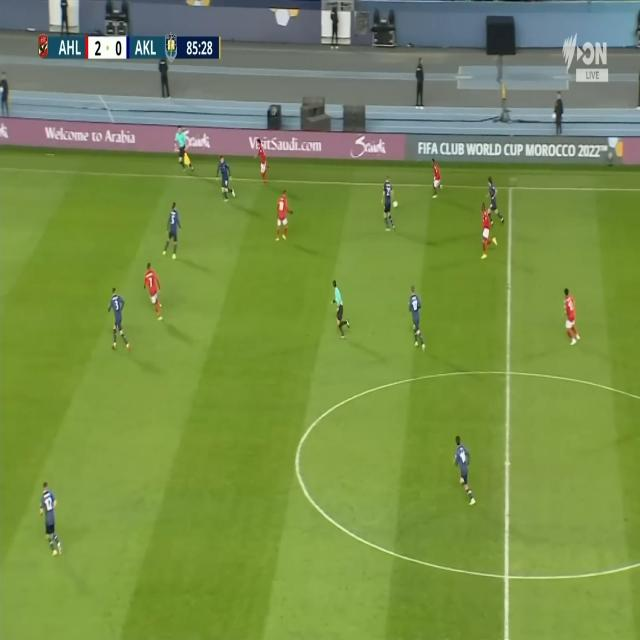Ball: (391, 198, 399, 214)
Player: (38, 482, 63, 558), (454, 432, 478, 508), (406, 277, 428, 354), (108, 285, 132, 354), (561, 283, 583, 344), (144, 260, 164, 322), (478, 200, 498, 262), (162, 201, 182, 262), (216, 156, 237, 205), (275, 189, 293, 244), (379, 175, 396, 231), (484, 178, 504, 225), (256, 139, 271, 188), (429, 158, 443, 200)
Ref: (330, 275, 354, 342), (171, 125, 195, 177)
